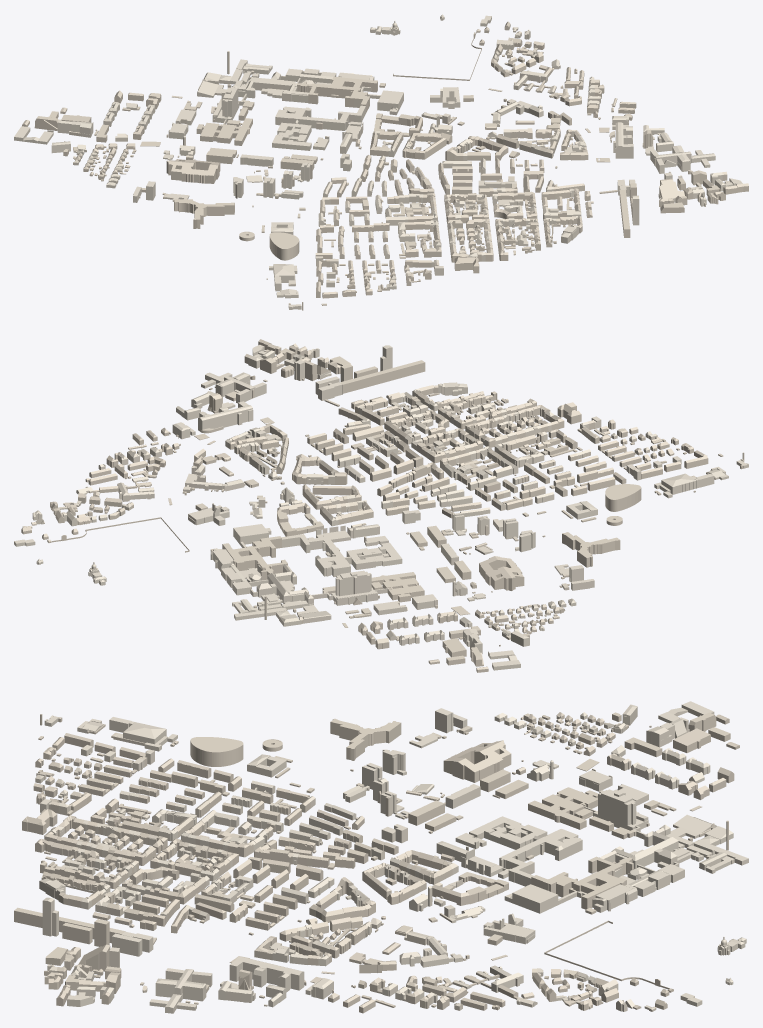
3 views of the same model, one above another, from view 1: azimuth 30°, elevation 25°; view 2: azimuth 150°, elevation 25°; view 3: azimuth 270°, elevation 25° (orthographic). The views are drawn at different scales.
Size of the model in its own units: 1305 by 84.14 by 1280.
